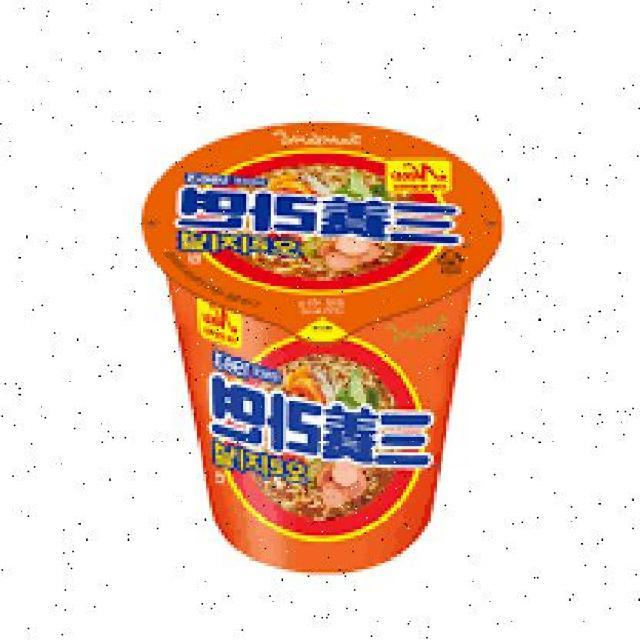Miscellaneous: (150, 112, 506, 580)
